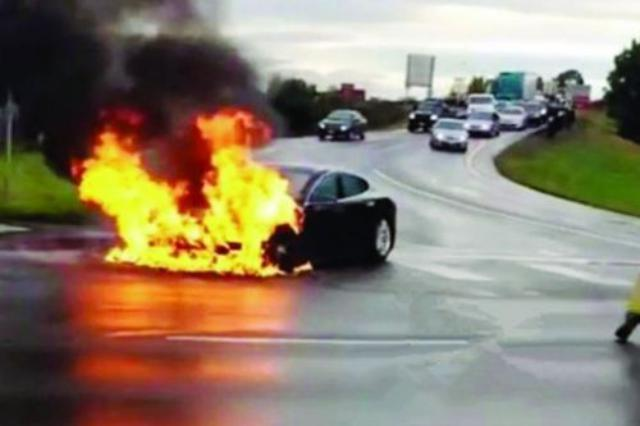fire: (209, 165, 267, 239), (112, 178, 178, 242), (78, 133, 138, 199), (205, 146, 248, 210), (179, 249, 263, 272), (195, 111, 252, 144), (108, 243, 174, 264), (266, 173, 292, 223), (180, 210, 212, 238)
